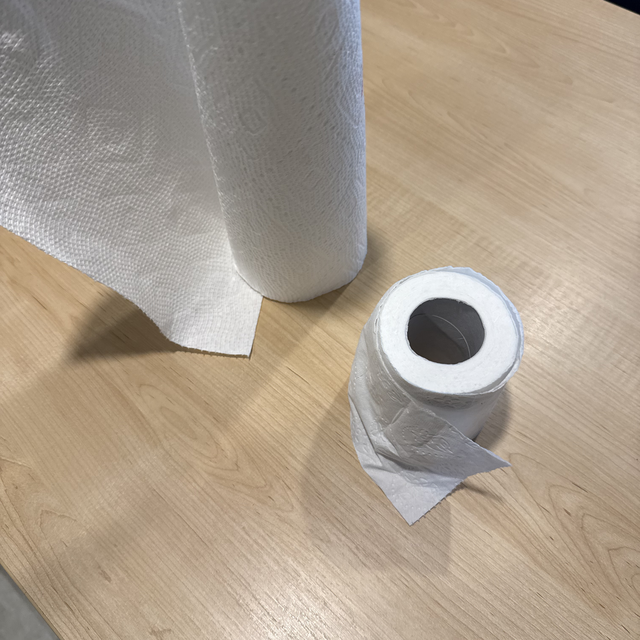Paper Towel: (3, 6, 388, 295)
Toilet Paper: (348, 261, 532, 498)
